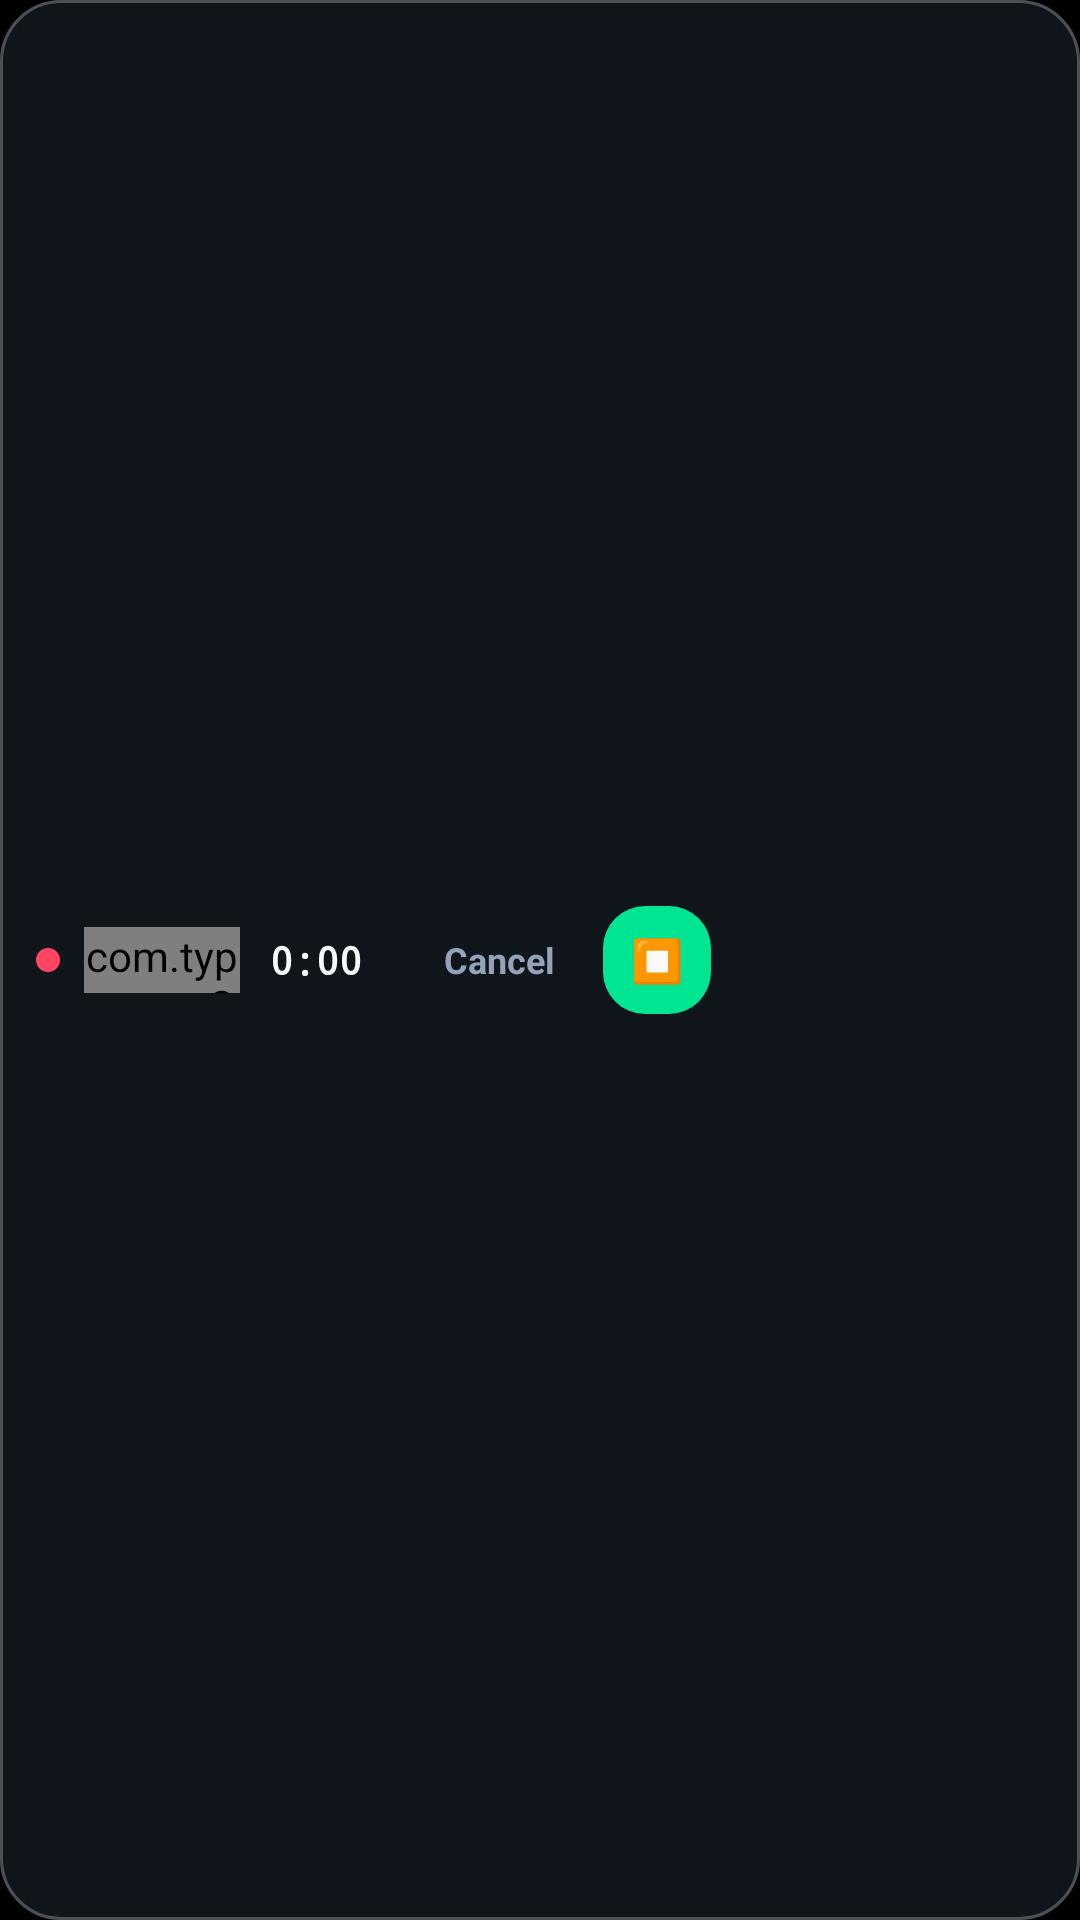

Named icons in this screenshot (1080x1920) and their centers, point (x, y):
floating command recording dot: point (48, 960)
